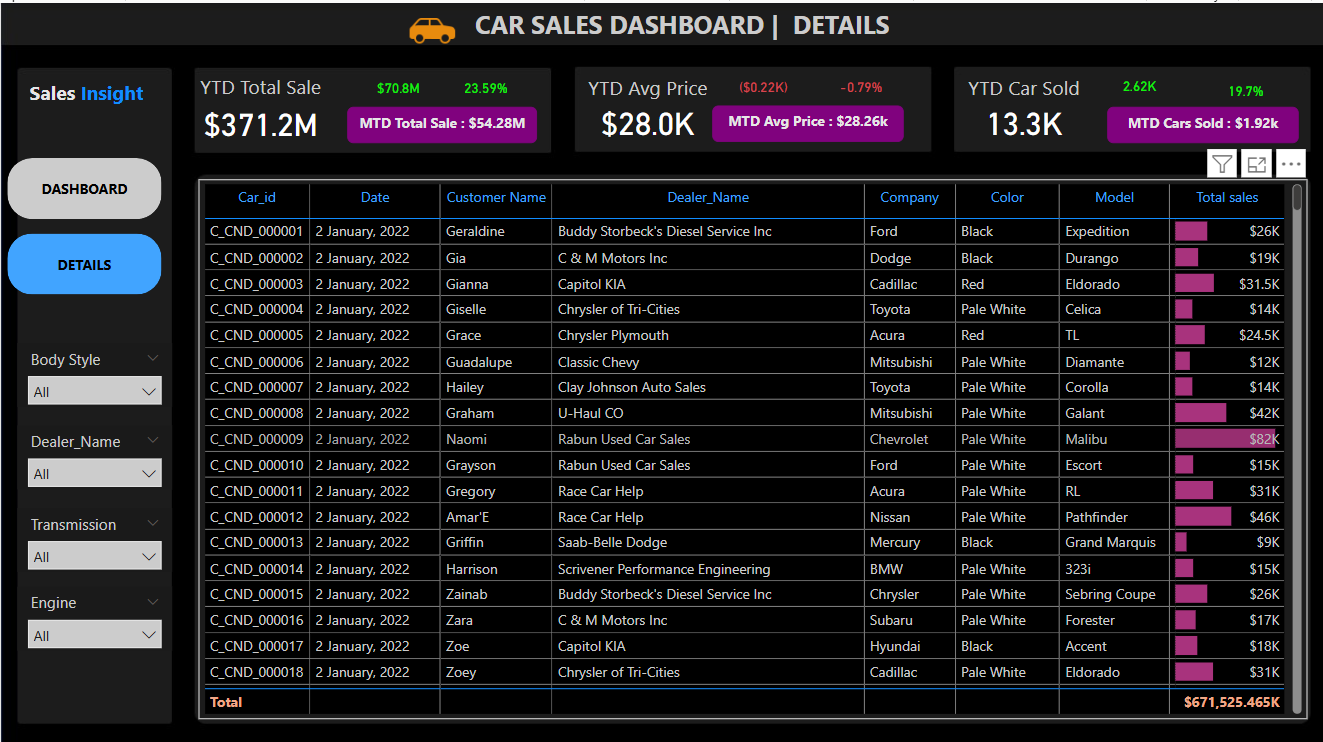

Layout of this report page (visuals, bound fields, positions):
{"tool":"powerbi","page":{"name":"DETAILS","canvas":[1280,720],"ordinal":1},"visuals":[{"type":"card","title":"YTD Total Sale","fields":{"Values":["car_data.YTD Total sale"]},"box":[176.9,67,146.6,72],"z":0},{"type":"card","fields":{"Values":["car_data.Sales Difference"]},"box":[341.2,65.7,84.7,36.6],"z":1000},{"type":"card","fields":{"Values":["car_data.YoY sales Growth"]},"box":[425.8,65.7,84.7,36.6],"z":2000},{"type":"card","fields":{"Values":["car_data.MTD KPI"]},"box":[334.2,100.1,183.4,35],"z":3000},{"type":"card","title":"YTD  Avg Price","fields":{"Values":["car_data.YTD Avg Price"]},"box":[555,68.8,138.7,67.6],"z":4000},{"type":"card","fields":{"Values":["car_data.AVG Price Diffrence"]},"box":[693.7,65.1,84.5,36.2],"z":5000},{"type":"card","fields":{"Values":["car_data.YoY Avg Price Growth"]},"box":[787.8,65.1,84.5,36.2],"z":6000},{"type":"card","fields":{"Values":["car_data.MTD Avg Price KPI"]},"box":[686.5,98.9,184.6,35],"z":7000},{"type":"card","title":"YTD  Car Sold","fields":{"Values":["Calendar Table.YTD Car Sold"]},"box":[918.1,68.8,138.7,67.6],"z":8000},{"type":"card","fields":{"Values":["car_data.Cars sold Diff"]},"box":[1056.8,63.9,84.5,36.2],"z":9000},{"type":"card","fields":{"Values":["car_data.YoY Car sold growth"]},"box":[1159.4,68.8,84.5,36.2],"z":10000},{"type":"card","fields":{"Values":["car_data.MTD Cars Sold KPI"]},"box":[1067.7,100.1,184.6,35],"z":11000},{"type":"slicer","fields":{"Values":["car_data.Body Style"]},"box":[15.7,328.2,149.6,61.5],"z":12000},{"type":"slicer","fields":{"Values":["car_data.Dealer_Name"]},"box":[15.7,407.8,149.6,61.5],"z":13000},{"type":"slicer","fields":{"Values":["car_data.Transmission"]},"box":[15.7,487.4,149.6,61.5],"z":14000},{"type":"slicer","fields":{"Values":["car_data.Engine"]},"box":[15.7,563.4,149.6,61.5],"z":15000},{"type":"tableEx","fields":{"Values":["car_data.Car_id","car_data.Date","car_data.Customer Name","car_data.Dealer_Name","car_data.Company","car_data.Color","car_data.Model","car_data.Total sales"]},"box":[190.6,170.1,1070.1,521.2],"z":16000},{"type":"textbox","box":[0,68.8,165.3,36.2],"z":17000},{"type":"pageNavigator","box":[15.7,148.4,149.6,133.9],"z":18000},{"type":"textbox","box":[452.4,0,434.3,48.3],"z":19000},{"type":"image","box":[365.6,0,86.9,63.9],"z":20000}]}

Visuals, with their boxes in screenshot pixels (x1, y1, x2, y2), scaled from the page's 1280x720 canvas onto the 1323x742 screenshot:
"YTD Total Sale" card: <bbox>183, 69, 334, 143</bbox>
card - car_data.Sales Difference: <bbox>353, 68, 440, 105</bbox>
card - car_data.YoY sales Growth: <bbox>440, 68, 528, 105</bbox>
card - car_data.MTD KPI: <bbox>345, 103, 535, 139</bbox>
"YTD  Avg Price" card: <bbox>574, 71, 717, 141</bbox>
card - car_data.AVG Price Diffrence: <bbox>717, 67, 804, 104</bbox>
card - car_data.YoY Avg Price Growth: <bbox>814, 67, 902, 104</bbox>
card - car_data.MTD Avg Price KPI: <bbox>710, 102, 900, 138</bbox>
"YTD  Car Sold" card: <bbox>949, 71, 1092, 141</bbox>
card - car_data.Cars sold Diff: <bbox>1092, 66, 1180, 103</bbox>
card - car_data.YoY Car sold growth: <bbox>1198, 71, 1286, 108</bbox>
card - car_data.MTD Cars Sold KPI: <bbox>1104, 103, 1294, 139</bbox>
slicer - car_data.Body Style: <bbox>16, 338, 171, 402</bbox>
slicer - car_data.Dealer_Name: <bbox>16, 420, 171, 484</bbox>
slicer - car_data.Transmission: <bbox>16, 502, 171, 566</bbox>
slicer - car_data.Engine: <bbox>16, 581, 171, 644</bbox>
tableEx - car_data.Car_id x car_data.Date: <bbox>197, 175, 1303, 712</bbox>
textbox: <bbox>0, 71, 171, 108</bbox>
pageNavigator: <bbox>16, 153, 171, 291</bbox>
textbox: <bbox>468, 0, 916, 50</bbox>
image: <bbox>378, 0, 468, 66</bbox>
